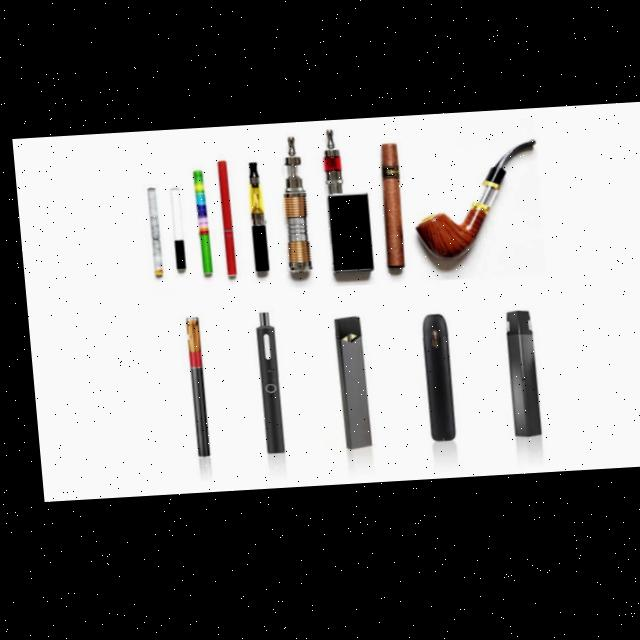cigarette: (143, 189, 158, 278), (166, 189, 181, 270)
vape: (319, 130, 370, 278), (327, 319, 363, 453), (498, 315, 534, 445), (275, 138, 308, 276), (414, 317, 449, 447), (249, 314, 277, 458), (375, 147, 403, 273), (179, 318, 203, 459), (242, 163, 266, 277), (214, 162, 232, 279), (190, 171, 207, 276)
